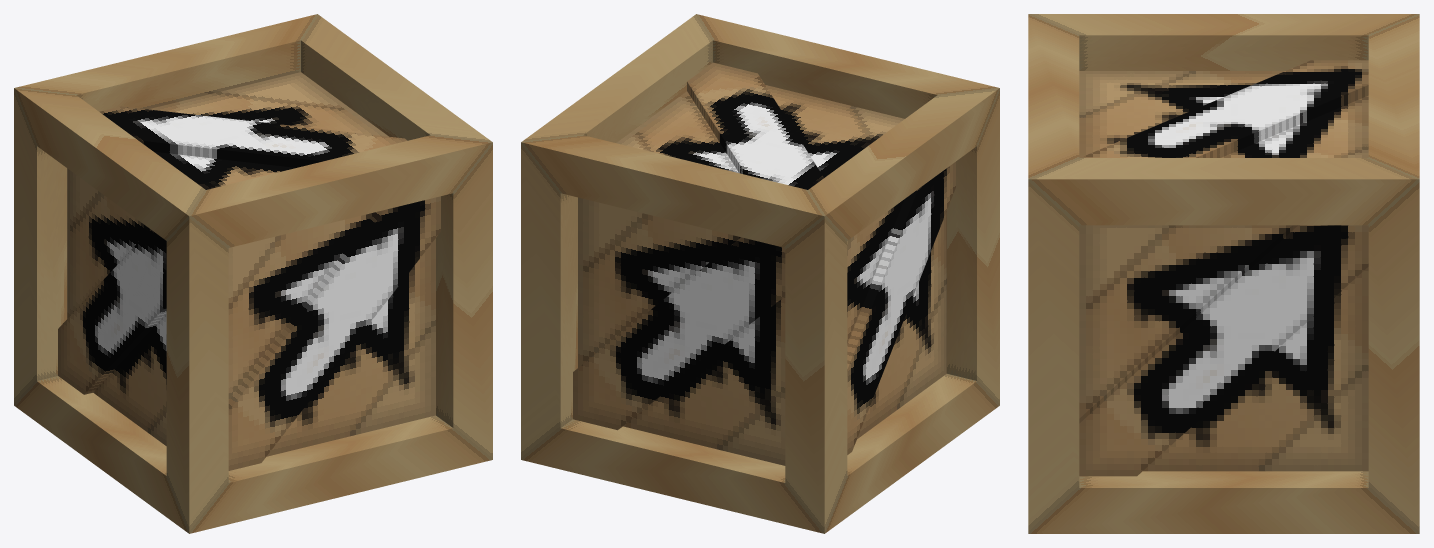
File: yeetcrate.fbx
3 renders of one model, left to right at view 1: azimuth 30°, elevation 25°; view 2: azimuth 150°, elevation 25°; view 3: azimuth 270°, elevation 25°, orthographic. The views are drawn at different scales.
Visible parts, largest first — view 1: Box001; view 2: Box001; view 3: Box001.
Boxes of the visible parts, x1,y1,x2,y2 form: Box001: (14,14,492,533); Box001: (521,14,999,533); Box001: (1028,14,1419,533).
Size of the model in its own units: 10 by 10 by 10.
Materials: 1 (1 with a texture image).
